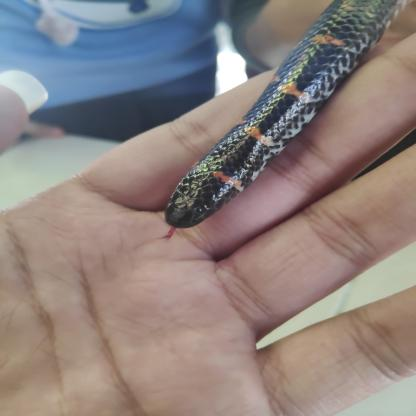Snake: (148, 0, 368, 241)
